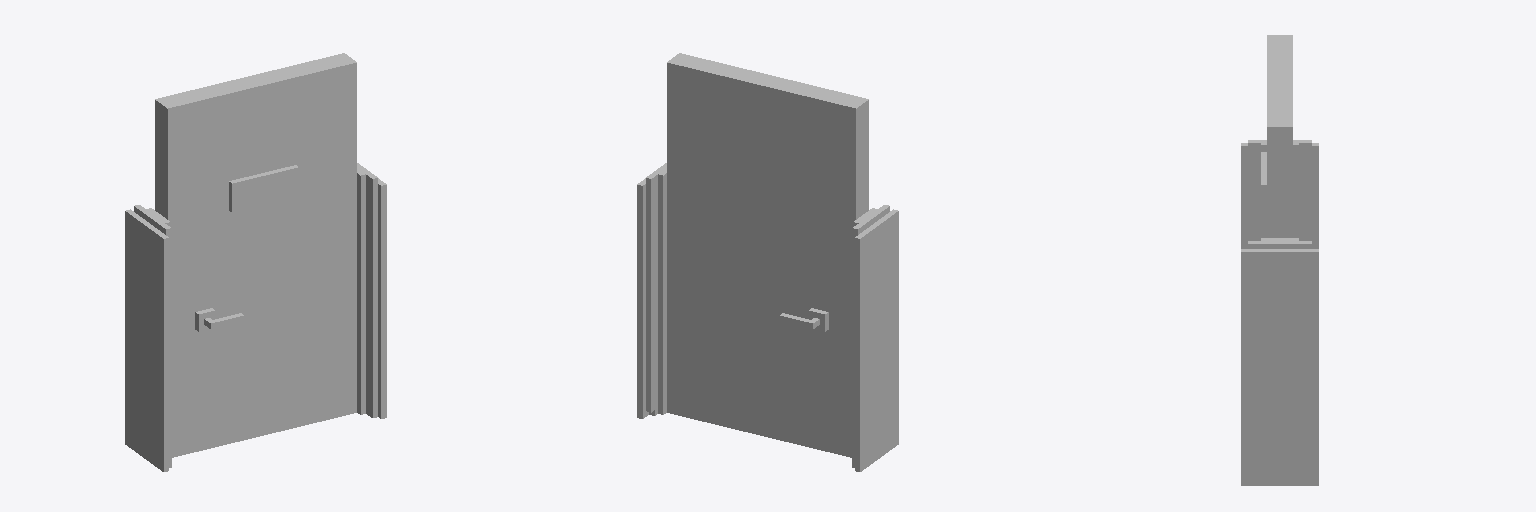
The model's file is DoorNoWindows.obj.
3 views of the same model, side by side, from view 1: azimuth 30°, elevation 25°; view 2: azimuth 150°, elevation 25°; view 3: azimuth 270°, elevation 25° (orthographic).
Visible parts, largest first — view 1: DoorNoWindows; view 2: DoorNoWindows; view 3: DoorNoWindows.
Boxes of the visible parts, x1=… form: DoorNoWindows: x1=125, y1=53, x2=386, y2=471; DoorNoWindows: x1=637, y1=53, x2=898, y2=471; DoorNoWindows: x1=1241, y1=35, x2=1318, y2=485.
Size of the model in its own units: 40 by 60 by 12.